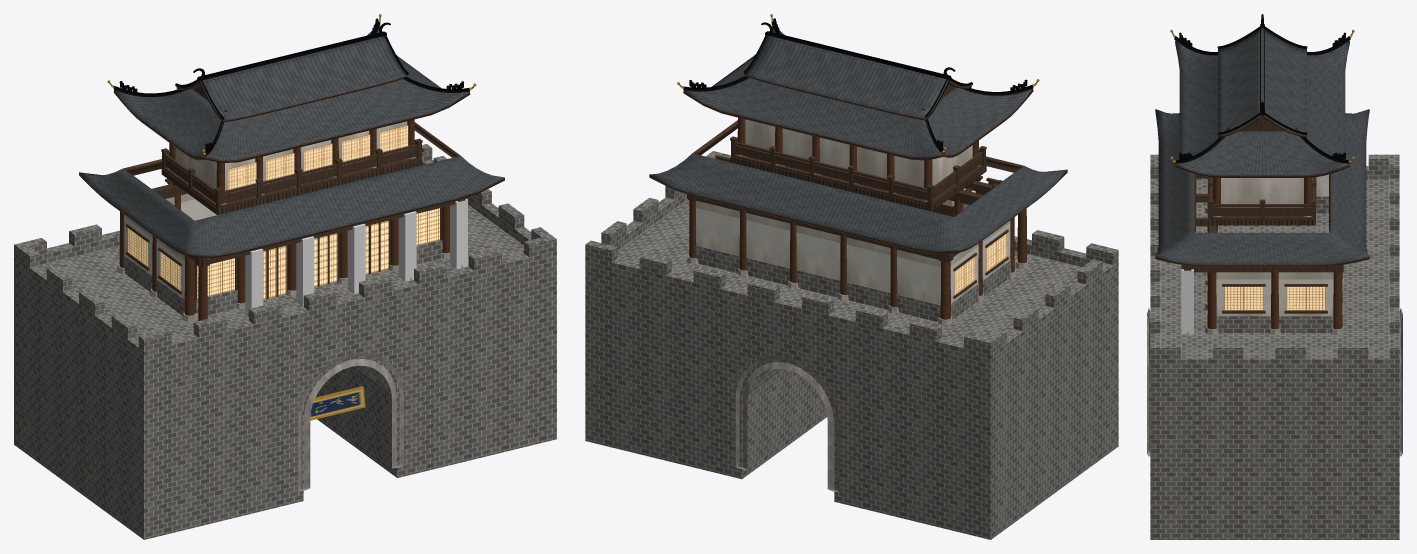
File: city_gate.glb
3 renders of one model, left to right at view 1: azimuth 30°, elevation 25°; view 2: azimuth 150°, elevation 25°; view 3: azimuth 270°, elevation 25°, orthographic. The views are drawn at different scales.
Parts seen in each view (by area): view 1: CityGateArchBlock, CityGateTowerLowSkirt, CityGateBattlements, CityGateTowerLowerRoof, CityGateTowerGable, CityGateTowerLattice, CityGateTowerBalconyBalustrade, CityGateTowerColumns, CityGateTowerUpperLattice, CityGateArchRing, CityGateTowerDado, CityGateTowerFrames (+13 smaller); view 2: CityGateArchBlock, CityGateTowerLowSkirt, CityGateBattlements, CityGateTowerLowerRoof, CityGateTowerWalls, CityGateTowerGable, CityGateTowerDado, CityGateTowerBalconyBalustrade, CityGateTowerUpperWalls, CityGateTowerColumns, CityGateArchRing, CityGateTowerUpperFloor (+6 smaller); view 3: CityGateArchBlock, CityGateTowerLowSkirt, CityGateTowerLowerRoof, CityGateBattlements, CityGateTowerGable, CityGateTowerWalls, CityGateTowerUpperWalls, CityGateTowerDado, CityGateTowerLattice, CityGateTowerBalconyBalustrade, CityGateTowerColumns, CityGateTowerBeams (+10 smaller).
Boxes of the visible parts, x1,y1,x2,y2 form: CityGateArchBlock: (14, 205, 556, 539); CityGateTowerLowSkirt: (79, 122, 504, 258); CityGateBattlements: (14, 144, 556, 361); CityGateTowerLowerRoof: (113, 25, 470, 162); CityGateTowerGable: (176, 36, 407, 122); CityGateTowerLattice: (128, 208, 439, 299); CityGateTowerBalconyBalustrade: (161, 138, 422, 209); CityGateTowerColumns: (119, 192, 449, 320); CityGateTowerUpperLattice: (228, 125, 408, 189); CityGateArchRing: (298, 352, 403, 491); CityGateTowerDado: (123, 240, 442, 317); CityGateTowerFrames: (126, 207, 441, 299); CityGateArchBlock: (585, 200, 1118, 539); CityGateTowerLowSkirt: (649, 120, 1067, 253); CityGateBattlements: (585, 151, 1118, 364); CityGateTowerLowerRoof: (683, 25, 1033, 160); CityGateTowerWalls: (696, 200, 1010, 305); CityGateTowerGable: (745, 35, 971, 120); CityGateTowerDado: (695, 245, 1010, 321); CityGateTowerBalconyBalustrade: (730, 136, 986, 205); CityGateTowerUpperWalls: (745, 119, 972, 187); CityGateTowerColumns: (689, 199, 1026, 319); CityGateArchRing: (735, 356, 839, 491); CityGateTowerUpperFloor: (730, 157, 986, 211); CityGateArchBlock: (1150, 179, 1399, 539); CityGateTowerLowSkirt: (1155, 109, 1369, 266); CityGateTowerLowerRoof: (1175, 40, 1349, 177); CityGateBattlements: (1150, 154, 1399, 368); CityGateTowerGable: (1218, 28, 1306, 137); CityGateTowerWalls: (1216, 174, 1333, 316); CityGateTowerUpperWalls: (1221, 178, 1303, 207); CityGateTowerDado: (1216, 196, 1333, 333); CityGateTowerLattice: (1224, 286, 1325, 310); CityGateTowerBalconyBalustrade: (1208, 177, 1316, 219); CityGateTowerColumns: (1207, 178, 1342, 329); CityGateTowerBeams: (1181, 174, 1343, 273).
Size of what is drawn, in the model's own units: 22 by 20.43 by 12.32.
12 materials, 12 textured.
